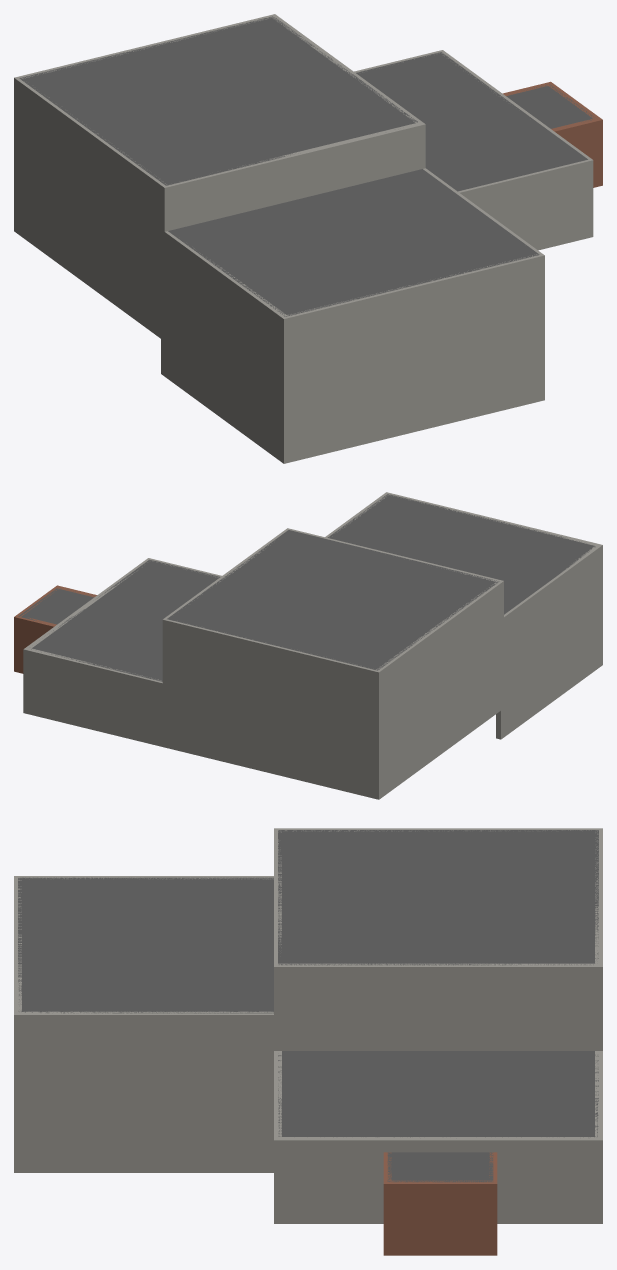
File: test_levels.glb
3 renders of one model, top to bottom at view 1: azimuth 30°, elevation 25°; view 2: azimuth 150°, elevation 25°; view 3: azimuth 270°, elevation 25°, orthographic. The views are drawn at different scales.
Visible parts, largest first — view 1: wall__pente__wall, wall__rdc__wall, ceiling__rdc__ceil, ceiling__pente__ceil, ceiling__est__ceil, wall__est__wall, brick__dehors__wall, ceiling__dehors__ceil; view 2: wall__rdc__wall, ceiling__rdc__ceil, wall__pente__wall, ceiling__pente__ceil, wall__est__wall, ceiling__est__ceil, ceiling__dehors__ceil, brick__dehors__wall; view 3: wall__pente__wall, ceiling__rdc__ceil, ceiling__pente__ceil, wall__rdc__wall, ceiling__est__ceil, wall__est__wall, brick__dehors__wall, ceiling__dehors__ceil.
Part boxes in pixels (x1=…): wall__pente__wall: x1=161, y1=168, x2=544, y2=463; wall__rdc__wall: x1=14, y1=14, x2=425, y2=338; ceiling__rdc__ceil: x1=19, y1=16, x2=417, y2=185; ceiling__pente__ceil: x1=168, y1=169, x2=539, y2=316; ceiling__est__ceil: x1=356, y1=52, x2=587, y2=191; wall__est__wall: x1=354, y1=50, x2=593, y2=250; brick__dehors__wall: x1=502, y1=81, x2=602, y2=187; ceiling__dehors__ceil: x1=506, y1=84, x2=595, y2=128; wall__rdc__wall: x1=162, y1=528, x2=503, y2=799; ceiling__rdc__ceil: x1=167, y1=530, x2=499, y2=670; wall__pente__wall: x1=325, y1=492, x2=602, y2=739; ceiling__pente__ceil: x1=327, y1=494, x2=595, y2=614; wall__est__wall: x1=23, y1=558, x2=221, y2=748; ceiling__est__ceil: x1=31, y1=559, x2=220, y2=681; ceiling__dehors__ceil: x1=18, y1=588, x2=94, y2=624; brick__dehors__wall: x1=14, y1=585, x2=96, y2=673; wall__pente__wall: x1=14, y1=876, x2=281, y2=1172; ceiling__rdc__ceil: x1=278, y1=830, x2=598, y2=965; ceiling__pente__ceil: x1=18, y1=877, x2=273, y2=1013; wall__rdc__wall: x1=274, y1=828, x2=602, y2=1050; ceiling__est__ceil: x1=278, y1=1051, x2=598, y2=1137; wall__est__wall: x1=274, y1=1051, x2=602, y2=1223; brick__dehors__wall: x1=383, y1=1152, x2=497, y2=1255; ceiling__dehors__ceil: x1=387, y1=1152, x2=493, y2=1182.
Size of what is drawn, in the model's own units: 23.3 by 8.6 by 22.3.
